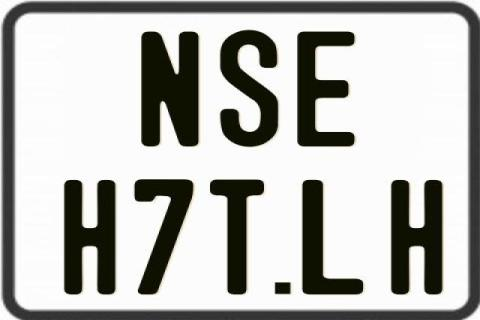0: (133, 178, 194, 298)
E: (294, 31, 355, 147)
H: (63, 178, 118, 292), (390, 178, 443, 294)
L: (300, 180, 366, 294)
N: (140, 31, 201, 150)
S: (219, 28, 281, 146)
T: (207, 179, 261, 297)
